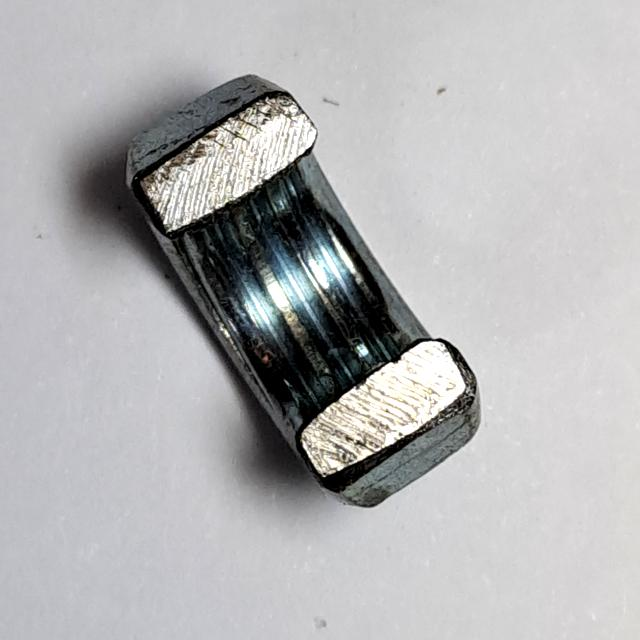Side-Fracture: (109, 61, 496, 525)
